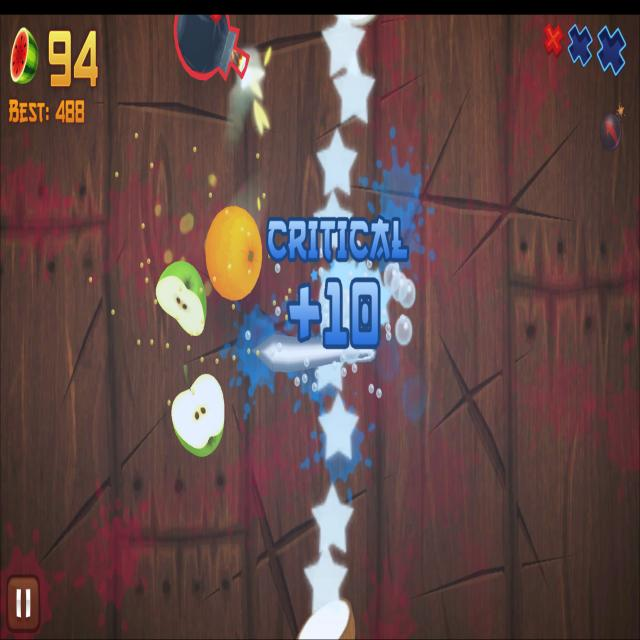bomb: (174, 16, 252, 81)
fruit: (206, 206, 264, 302)
